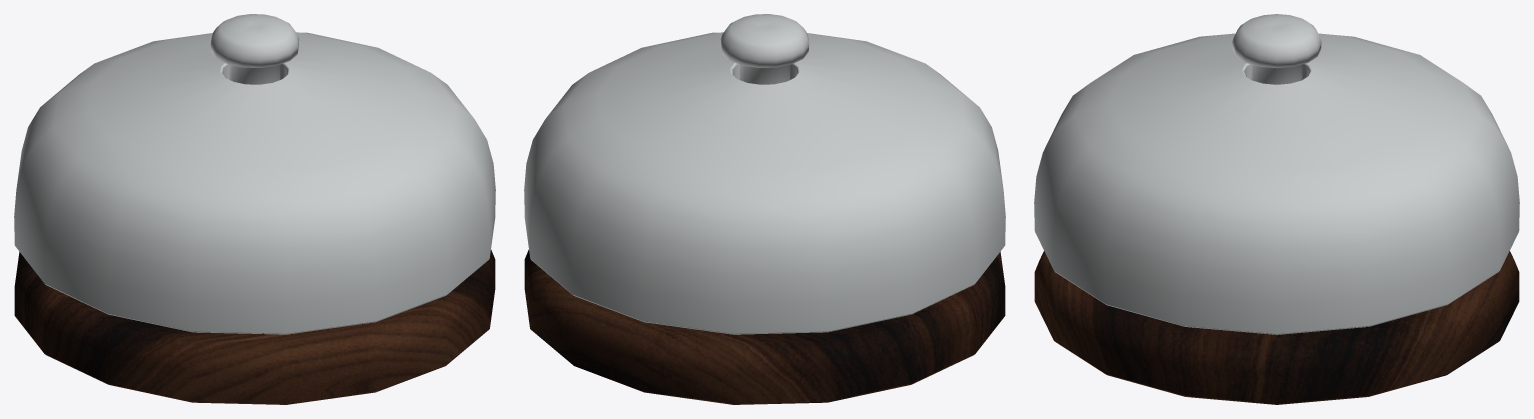
File: desk_bell.gltf
The picture shows the model from 3 angles, left to right: view 1: azimuth 30°, elevation 25°; view 2: azimuth 150°, elevation 25°; view 3: azimuth 270°, elevation 25°; orthographic projection.
Visible parts, largest first — view 1: Object_2, Object_3; view 2: Object_2, Object_3; view 3: Object_2, Object_3.
Boxes of the visible parts, x1,y1,x2,y2 form: Object_2: (14,32,495,404); Object_3: (210,14,299,84); Object_2: (524,32,1005,404); Object_3: (720,14,809,84); Object_2: (1034,33,1519,404); Object_3: (1232,14,1321,84).
Size of the model in its own units: 1.85 by 1.17 by 1.85.
2 materials, 2 textured.
